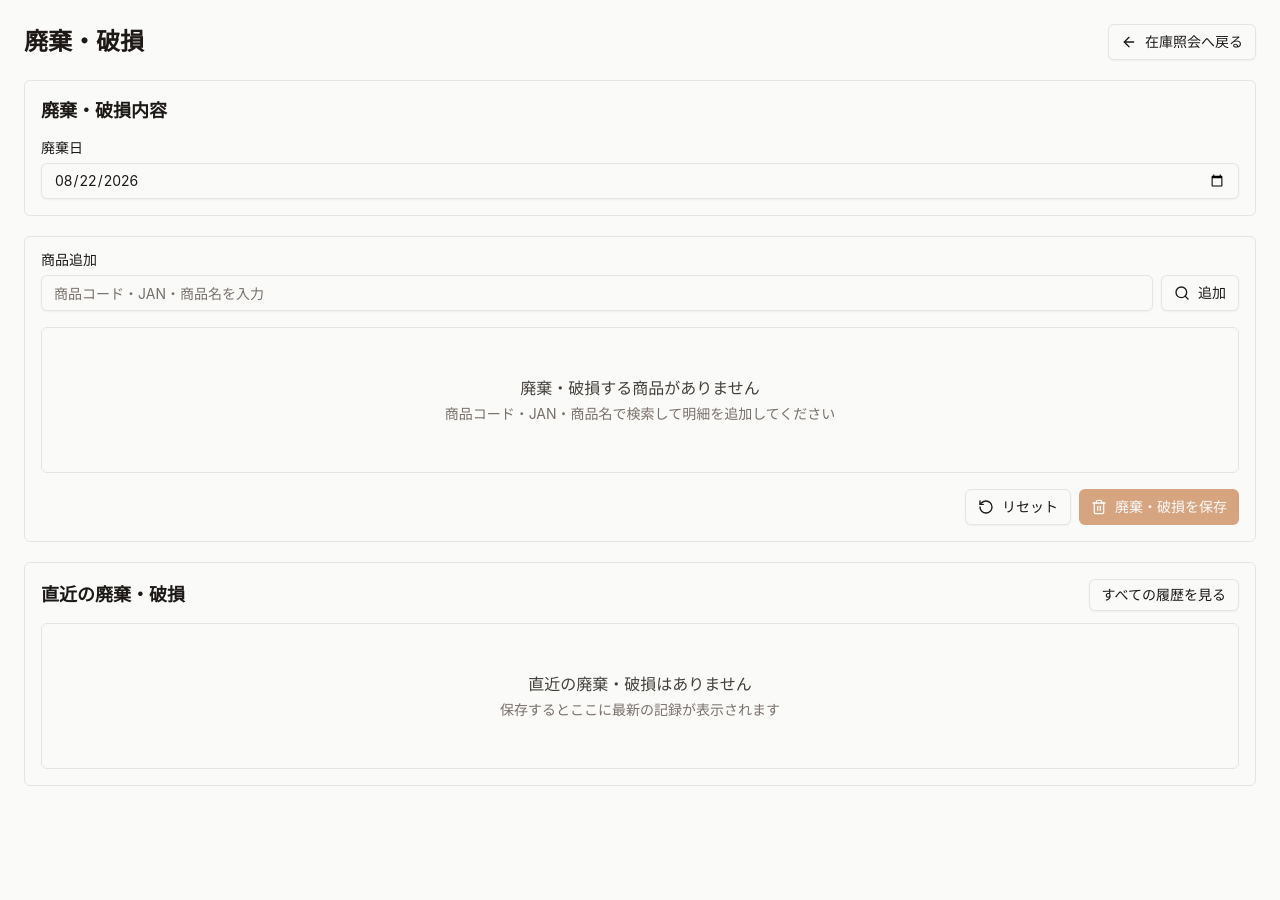
Test: DisposalPage (UI-05 / REQ-204) › REQ-204 merges duplicate product type and reason rows
Type "DP-001" into the dropdown named "廃棄・破損商品検索" at [597, 293], box top-left (41, 275), bottom-right (1153, 311)
Then press Enter
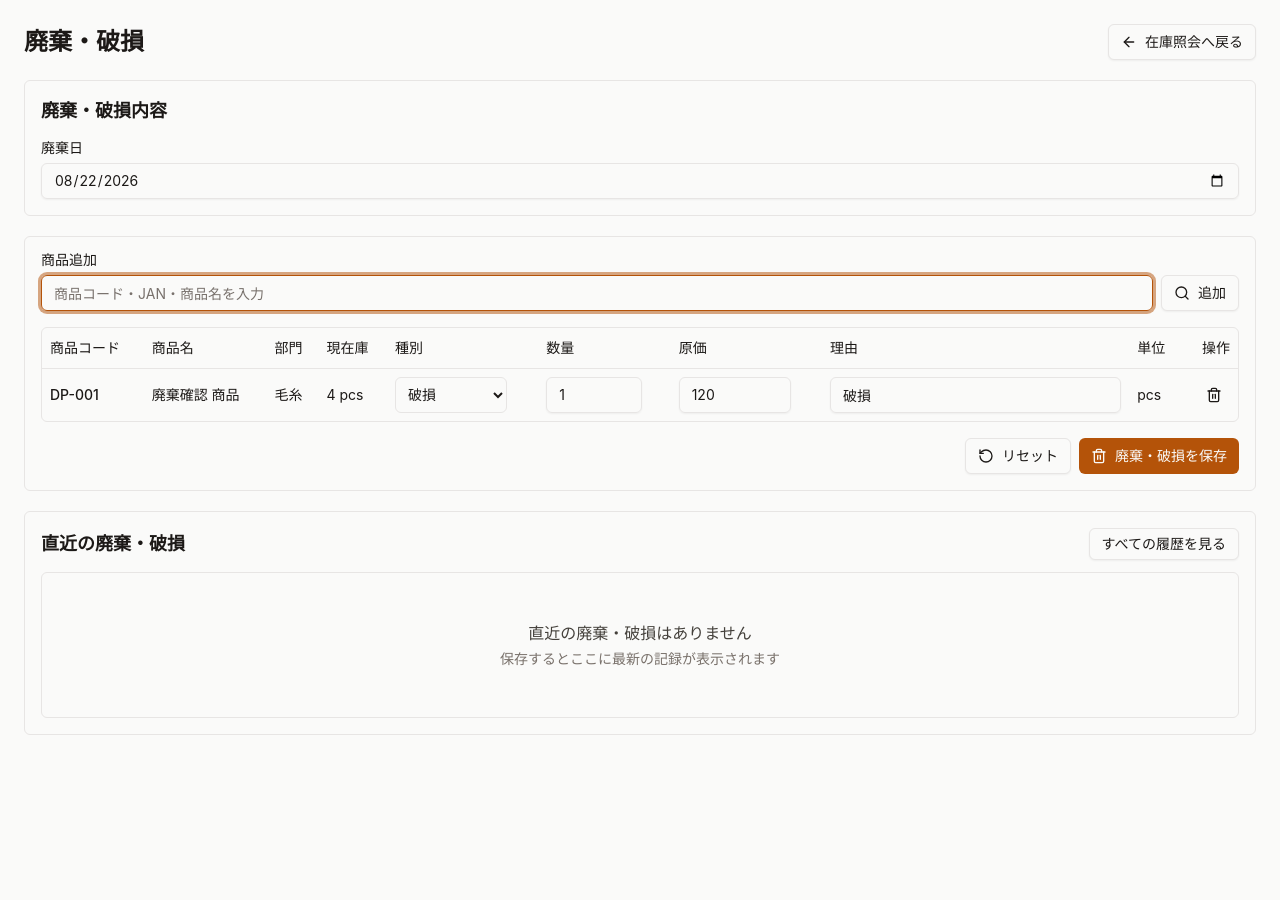
Expected: the text "DP-001" is shown, top-left (42, 368), bottom-right (144, 420)
Type "DP-001" into the dropdown named "廃棄・破損商品検索" at [597, 293], box top-left (41, 275), bottom-right (1153, 311)
Then press Enter
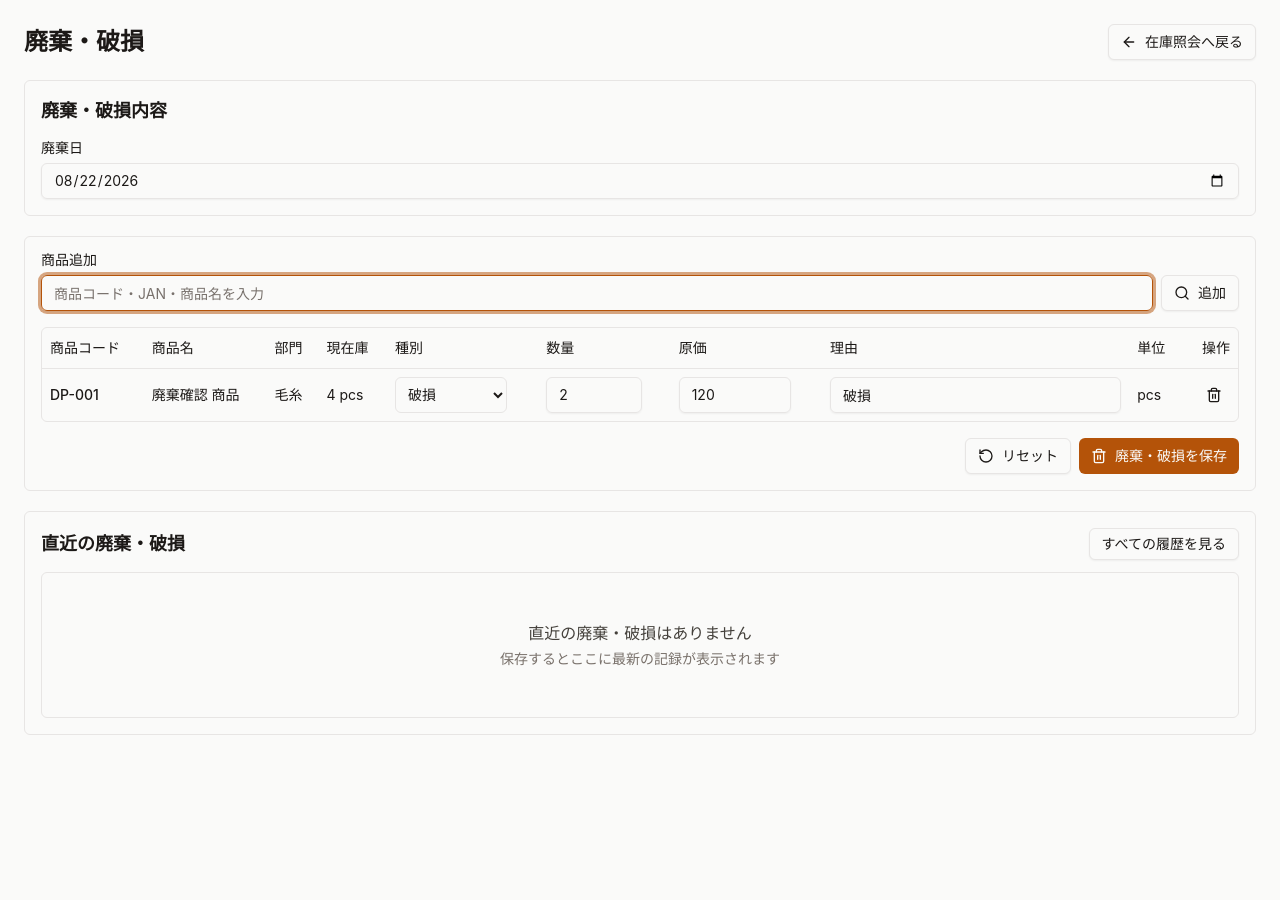
Expected: the text "DP-001" is shown once, top-left (42, 368), bottom-right (144, 420)
Expected: the number field named "DP-001 の数量" holds "2", top-left (546, 376), bottom-right (642, 412)
